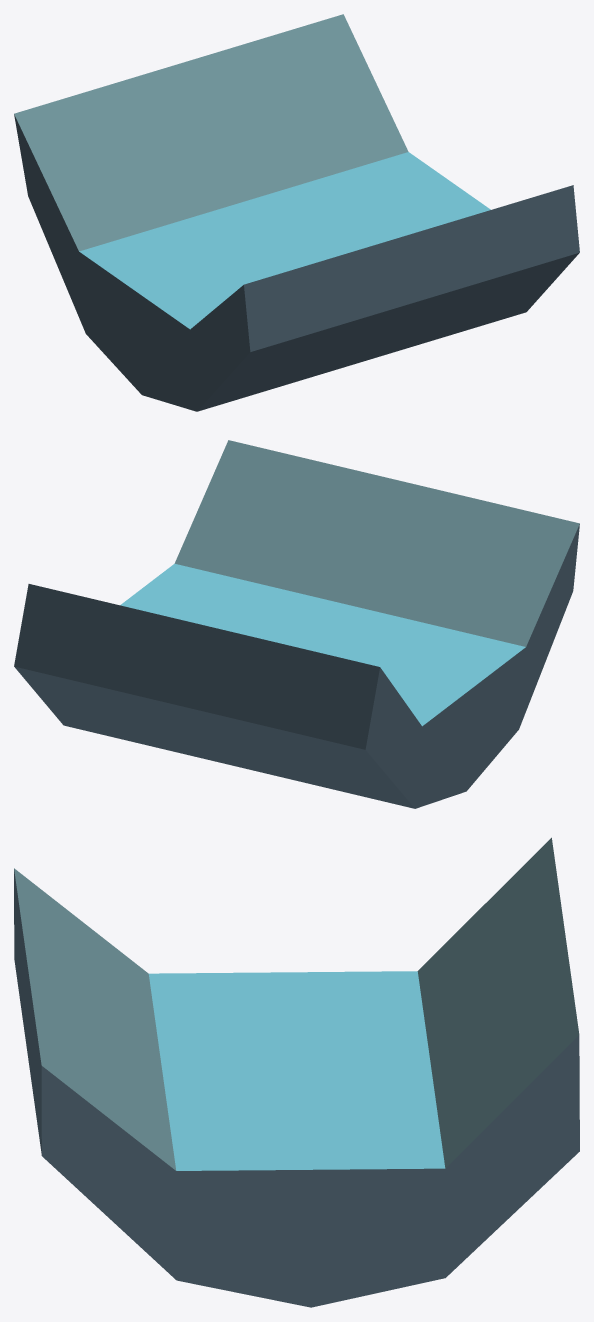
File: DC_Fun_Flume_Part.fbx
3 views of the same model, one above another, from view 1: azimuth 30°, elevation 25°; view 2: azimuth 150°, elevation 25°; view 3: azimuth 270°, elevation 25° (orthographic). The views are drawn at different scales.
Parts seen in each view (by area): view 1: Cube.003; view 2: Cube.003; view 3: Cube.003.
Boxes of the visible parts, bbox=[...] form: Cube.003: bbox=[14, 14, 579, 411]; Cube.003: bbox=[14, 440, 579, 808]; Cube.003: bbox=[14, 837, 579, 1307].
Size of the model in its own units: 74.71 by 42.6 by 80.7.
